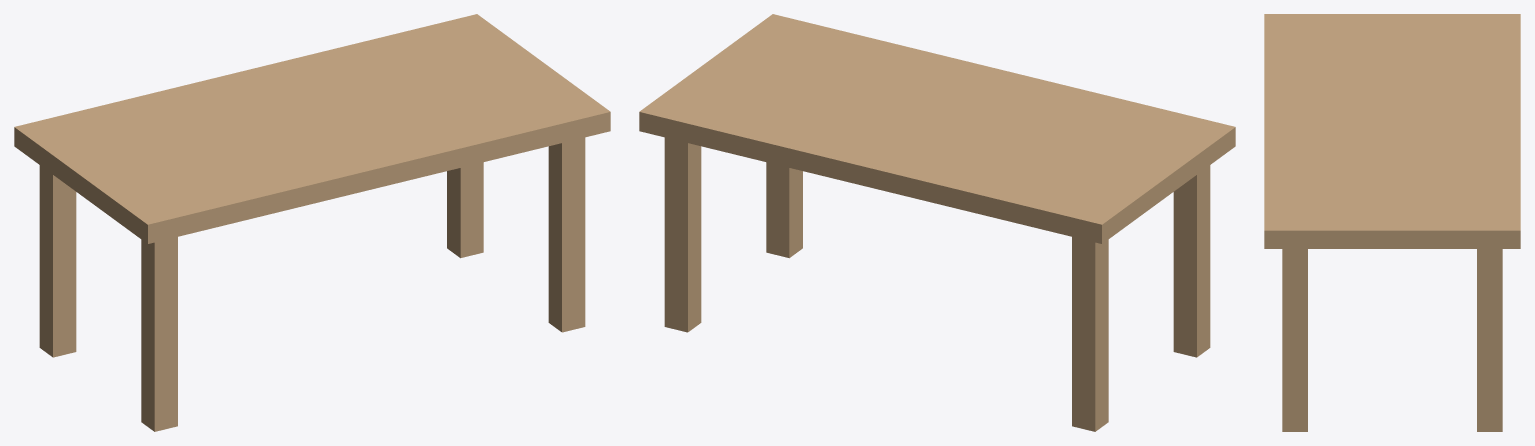
The model's file is Table.glb.
3 views of the same model, side by side, from view 1: azimuth 30°, elevation 25°; view 2: azimuth 150°, elevation 25°; view 3: azimuth 270°, elevation 25° (orthographic). The views are drawn at different scales.
Parts seen in each view (by area): view 1: top, leg3, leg2, leg0, leg1; view 2: top, leg1, leg0, leg2, leg3; view 3: top, leg1, leg3.
Boxes of the visible parts, bbox=[...] form: top: bbox=[14, 14, 610, 243]; leg3: bbox=[548, 137, 585, 332]; leg2: bbox=[141, 237, 177, 431]; leg0: bbox=[39, 165, 76, 357]; leg1: bbox=[447, 162, 483, 258]; top: bbox=[639, 14, 1235, 243]; leg1: bbox=[664, 137, 701, 332]; leg0: bbox=[1072, 237, 1108, 431]; leg2: bbox=[1173, 165, 1210, 357]; leg3: bbox=[766, 162, 802, 258]; top: bbox=[1264, 14, 1520, 248]; leg1: bbox=[1477, 249, 1502, 431]; leg3: bbox=[1282, 249, 1307, 431].
Size of the model in its own units: 1 by 0.45 by 0.5.
